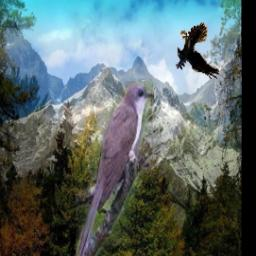Crow: (176, 24, 219, 81)
Cuckoo: (77, 82, 155, 256)
